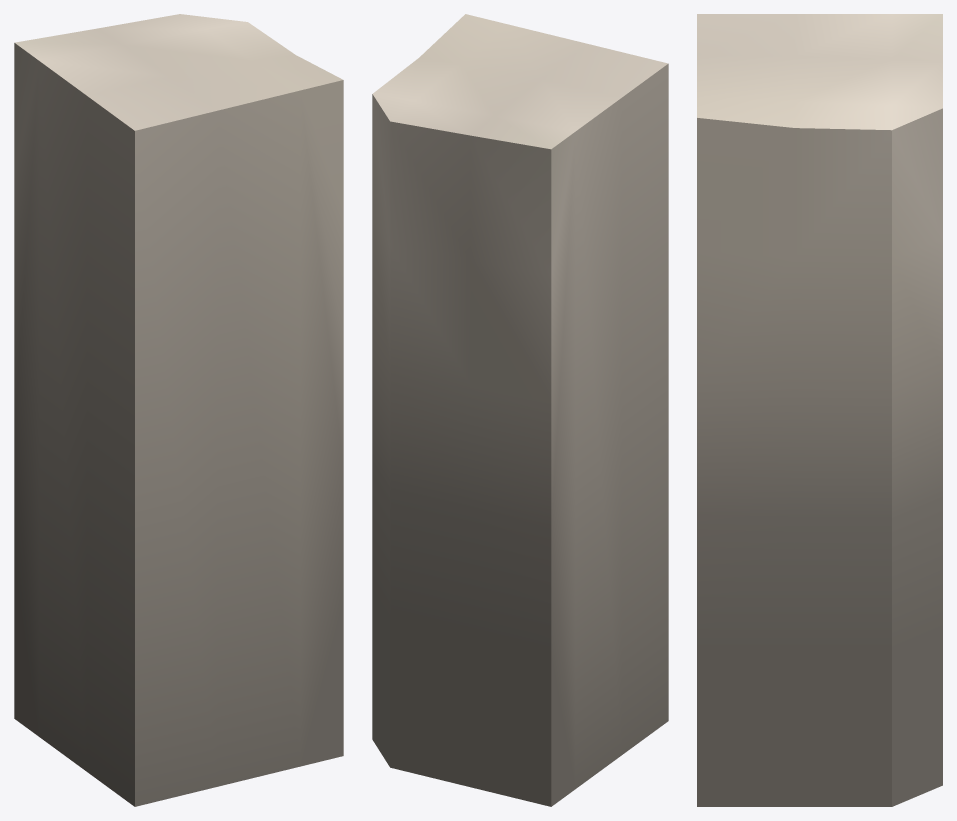
File: SM_VKI_Rock_Cave_COOO_WallSEW.fbx
The picture shows the model from 3 angles, left to right: view 1: azimuth 30°, elevation 25°; view 2: azimuth 150°, elevation 25°; view 3: azimuth 270°, elevation 25°; orthographic projection. The views are drawn at different scales.
Visible parts, largest first — view 1: SM_VKI_Rock_Cave_COOO_WallSEW.001; view 2: SM_VKI_Rock_Cave_COOO_WallSEW.001; view 3: SM_VKI_Rock_Cave_COOO_WallSEW.001.
Part boxes in pixels (box(x1,y1,x2,y2)): SM_VKI_Rock_Cave_COOO_WallSEW.001: box(14, 14, 343, 806); SM_VKI_Rock_Cave_COOO_WallSEW.001: box(372, 14, 668, 806); SM_VKI_Rock_Cave_COOO_WallSEW.001: box(697, 14, 942, 806).
Size of the model in its own units: 0.42 by 1.3 by 0.42.
